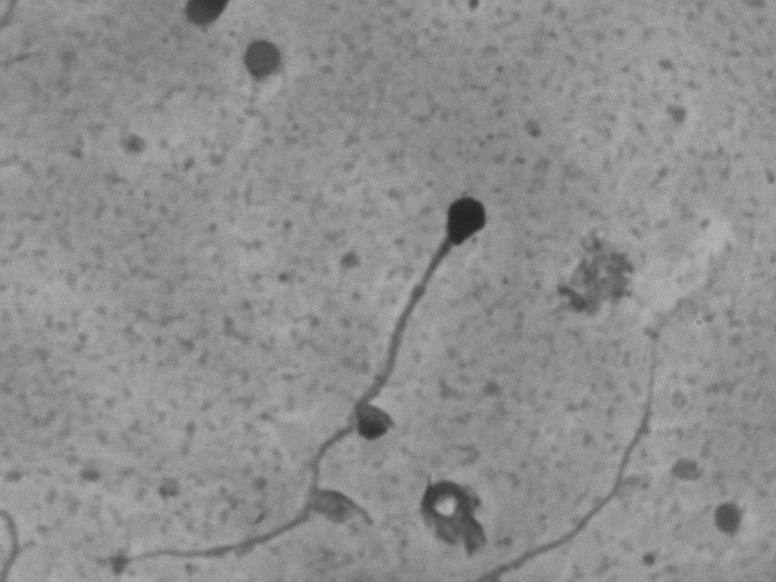Abnormal: (74, 172, 515, 577)
